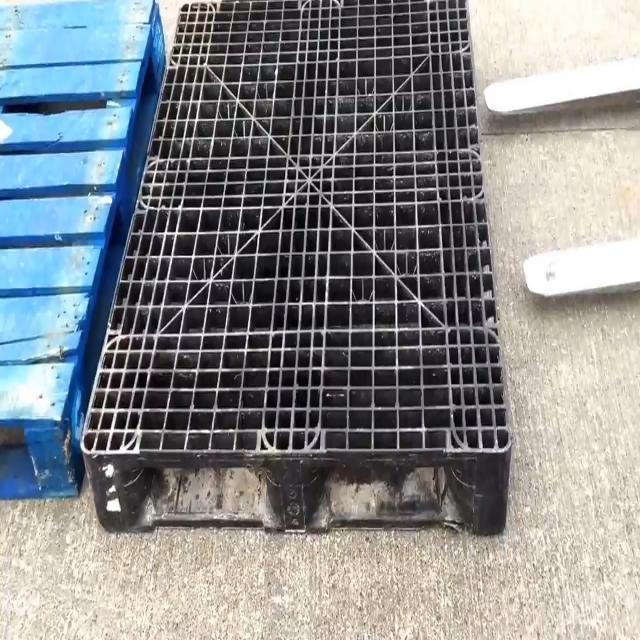Palette: (81, 0, 515, 538), (0, 0, 166, 514)
